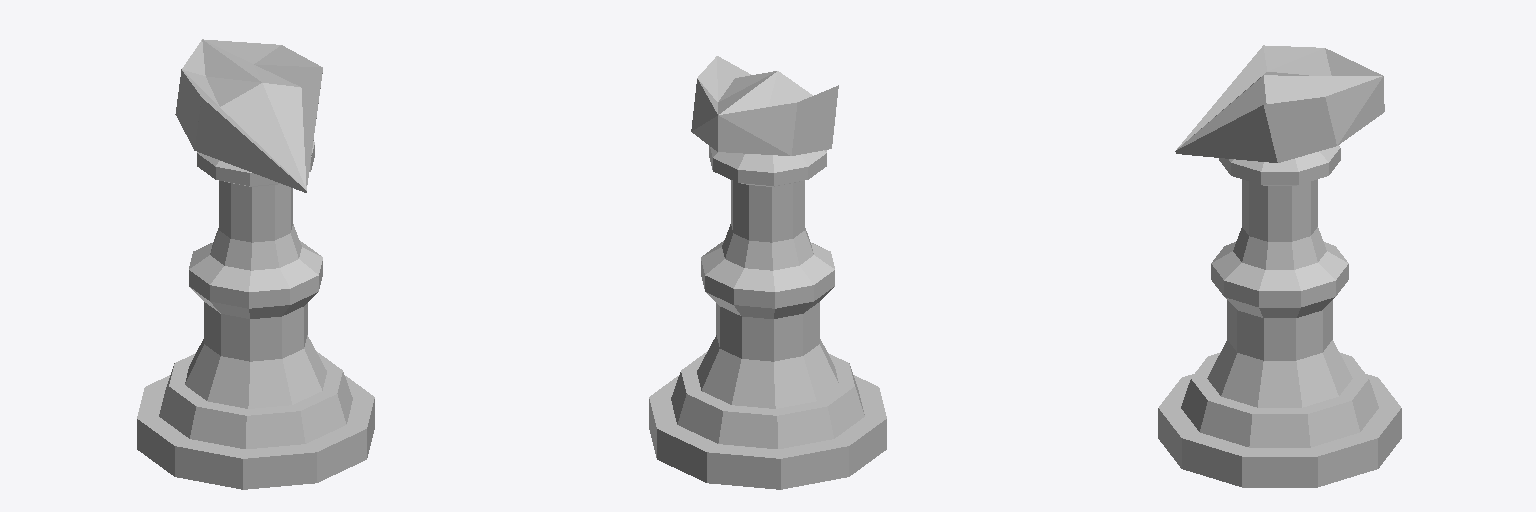
File: scout.obj
3 views of the same model, side by side, from view 1: azimuth 30°, elevation 25°; view 2: azimuth 150°, elevation 25°; view 3: azimuth 270°, elevation 25° (orthographic).
Bounding box in the file's own units: 0.9929 × 1.73 × 1.04.